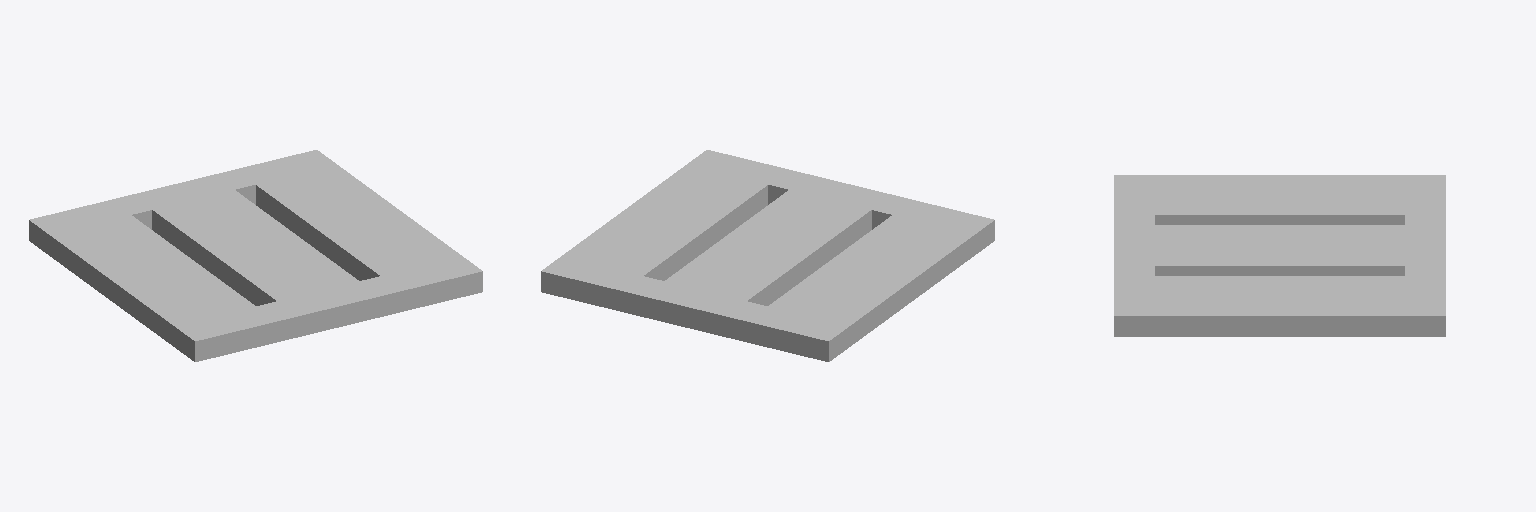
File: double_slit_plate.obj
3 renders of one model, left to right at view 1: azimuth 30°, elevation 25°; view 2: azimuth 150°, elevation 25°; view 3: azimuth 270°, elevation 25°, orthographic.
Parts seen in each view (by area): view 1: Object.1; view 2: Object.1; view 3: Object.1.
Boxes of the visible parts, x1=… form: Object.1: x1=29, y1=150, x2=482, y2=361; Object.1: x1=541, y1=150, x2=994, y2=361; Object.1: x1=1114, y1=175, x2=1445, y2=336.
Size of the model in its own units: 40 by 2.78 by 40.